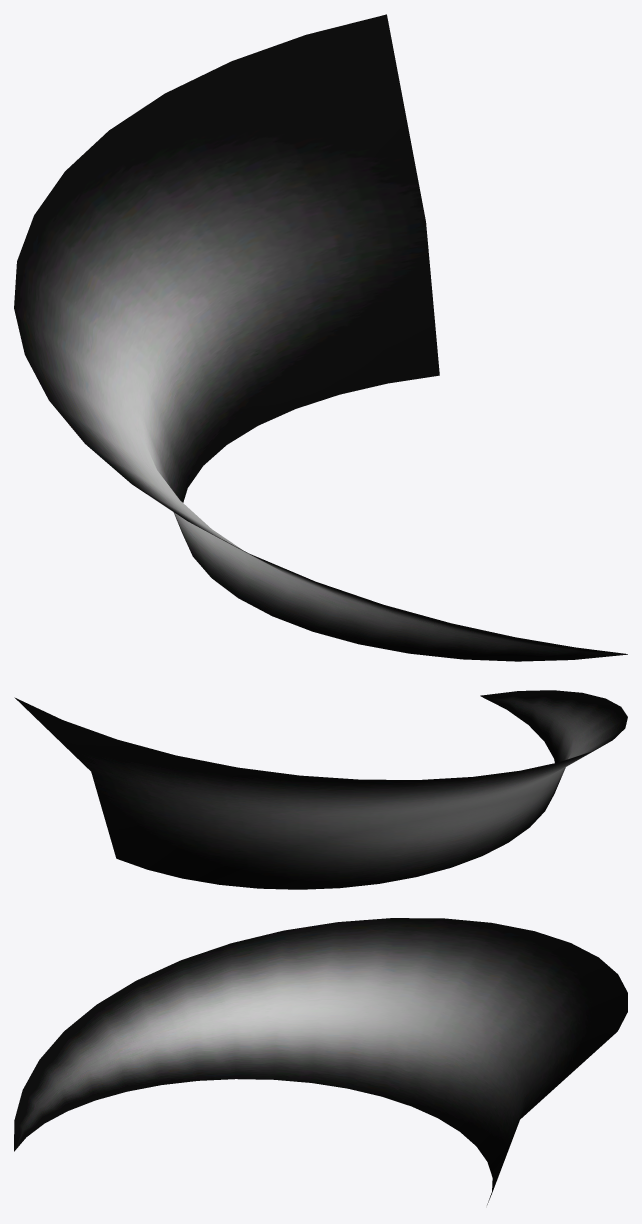
File: vfx_kurp_0691.dae
The picture shows the model from 3 angles, top to bottom: view 1: azimuth 30°, elevation 25°; view 2: azimuth 150°, elevation 25°; view 3: azimuth 270°, elevation 25°; orthographic projection. The views are drawn at different scales.
Visible parts, largest first — view 1: vfx_kurp_0691; view 2: vfx_kurp_0691; view 3: vfx_kurp_0691.
Boxes of the visible parts, x1,y1,x2,y2 form: vfx_kurp_0691: (14, 14, 627, 661); vfx_kurp_0691: (14, 690, 627, 889); vfx_kurp_0691: (14, 918, 627, 1204).
Size of the model in its own units: 10.16 by 14.41 by 5.
1 material, 1 textured.
